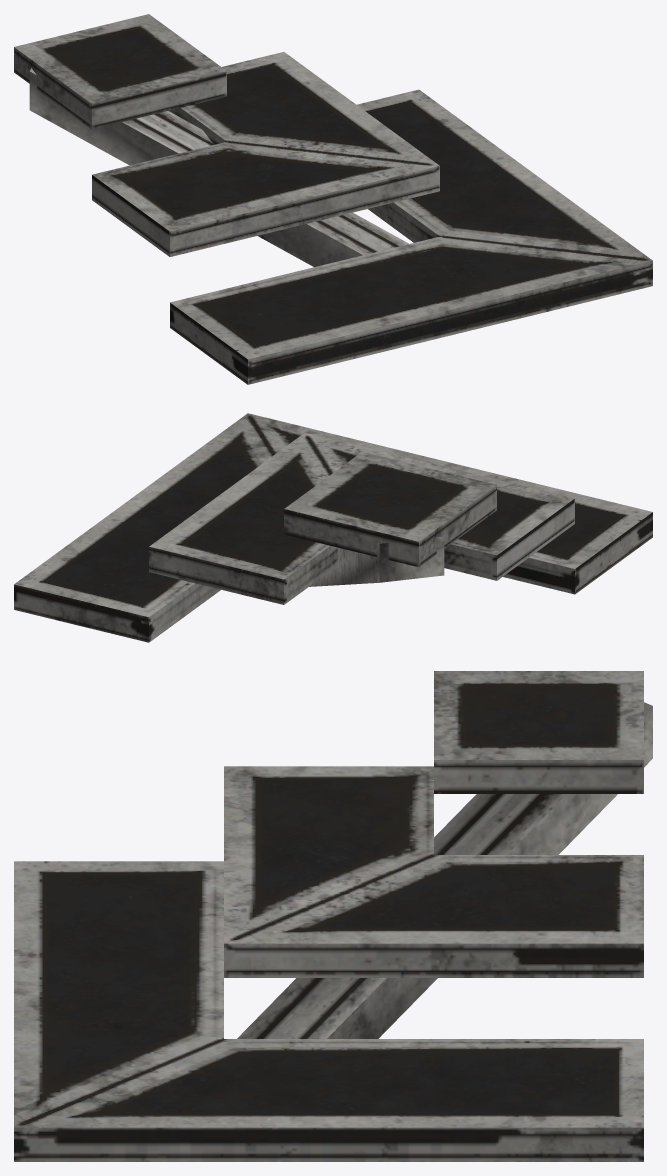
The model's file is SM_stair_corner_outer.fbx.
3 views of the same model, one above another, from view 1: azimuth 30°, elevation 25°; view 2: azimuth 150°, elevation 25°; view 3: azimuth 270°, elevation 25° (orthographic). The views are drawn at different scales.
Visible parts, largest first — view 1: stair_outer_corner; view 2: stair_outer_corner; view 3: stair_outer_corner.
Part boxes in pixels (left/top/right/bottom): stair_outer_corner: left=14, top=14, right=652, bottom=384; stair_outer_corner: left=14, top=413, right=652, bottom=642; stair_outer_corner: left=14, top=671, right=652, bottom=1161.
Bounding box in the file's own units: 1.01 × 0.4583 × 1.01.
